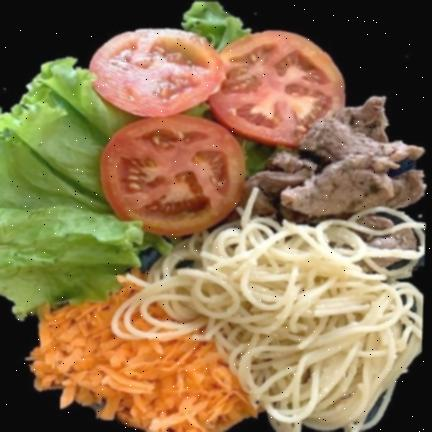carrot: (29, 279, 256, 431)
meat: (244, 97, 426, 221)
pasta: (112, 208, 424, 431)
salad: (0, 59, 170, 318)
tomato: (91, 30, 345, 235)
